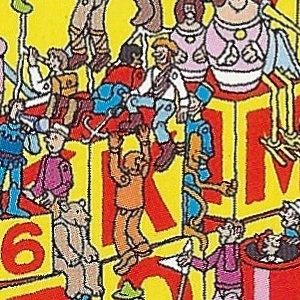Charlie: (135, 131, 165, 169)
